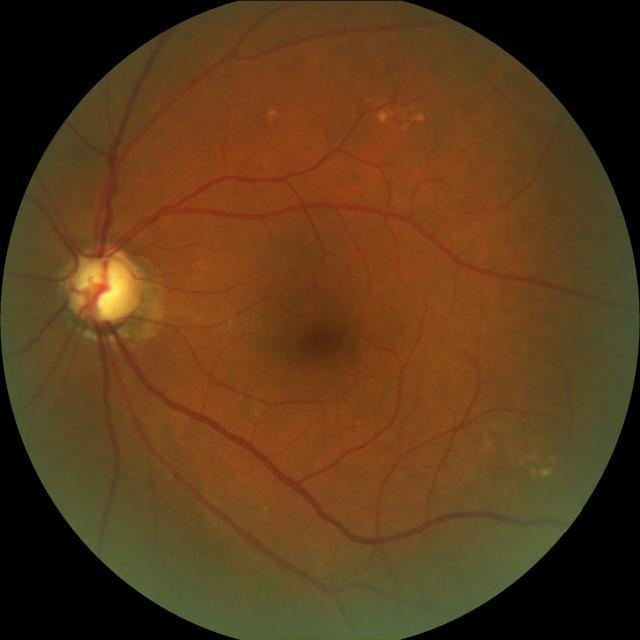OC: (68, 254, 132, 320)
OD: (58, 245, 144, 328)
